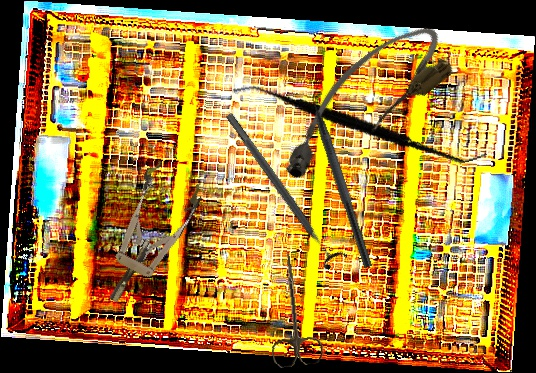Cannula: (259, 12, 463, 192)
Chopper: (301, 80, 386, 269)
Fixation Ring: (217, 106, 349, 272)
Iris Scissors: (260, 250, 325, 369)
Spatula Surgical: (230, 31, 488, 214)
Speculum: (85, 157, 208, 315)
